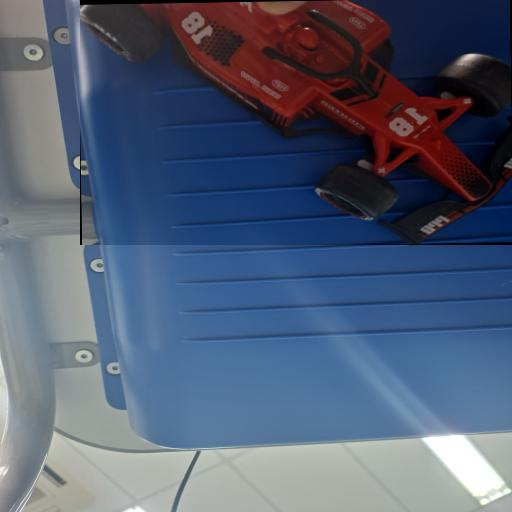carro: (80, 0, 511, 244)
